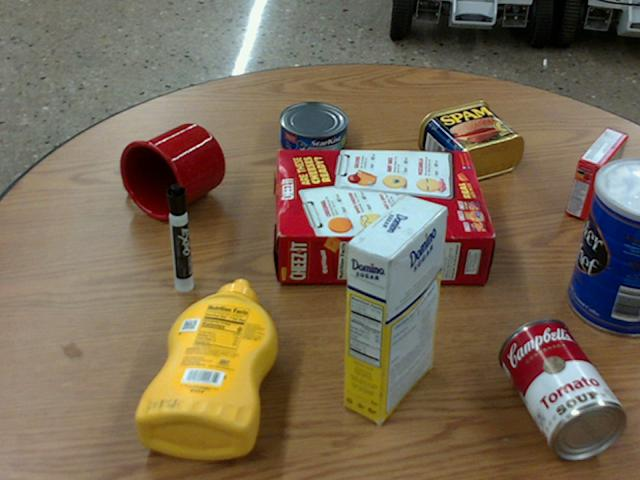cracker_box: (276, 149, 491, 283)
gelatin_box: (566, 129, 626, 219)
large_marker: (167, 183, 191, 290)
master_chef_can: (567, 158, 639, 336)
mug: (119, 122, 224, 219)
mustard_bottle: (136, 278, 276, 457)
potted_meat_can: (418, 101, 523, 180)
sugar_box: (343, 195, 446, 421)
tomato_soup_can: (499, 317, 625, 456)
tuna_fish_can: (280, 100, 348, 156)
